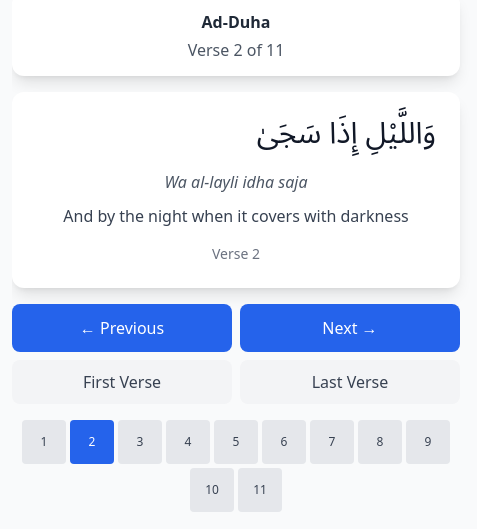
Test: Reading Mode Integration › should navigate to previous verse
The image size is (477, 529).
Click the button "← Previous" at (122, 328), box [12,304,232,352]
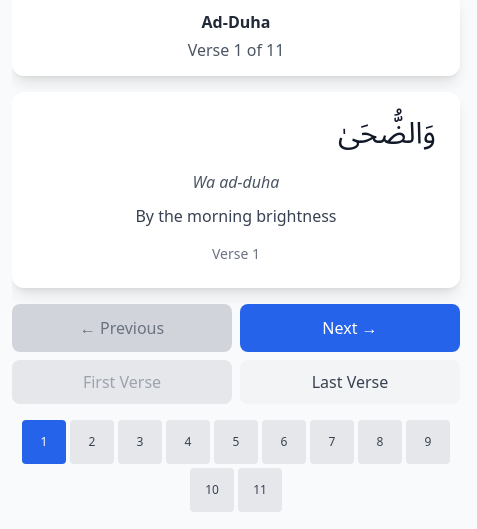
Expected: the text "وَالضُّحَىٰ" is shown, [338,102,436,165]
Expected: the text "Verse 1 of 11" is shown, [188,39,284,61]
